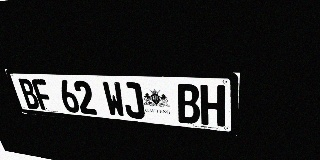2: (72, 80, 97, 115)
6: (56, 80, 81, 113)
B: (176, 84, 200, 124), (17, 78, 41, 110)
F: (31, 79, 55, 111)
H: (200, 85, 225, 127)
J: (120, 82, 146, 119)
W: (101, 81, 126, 118)
